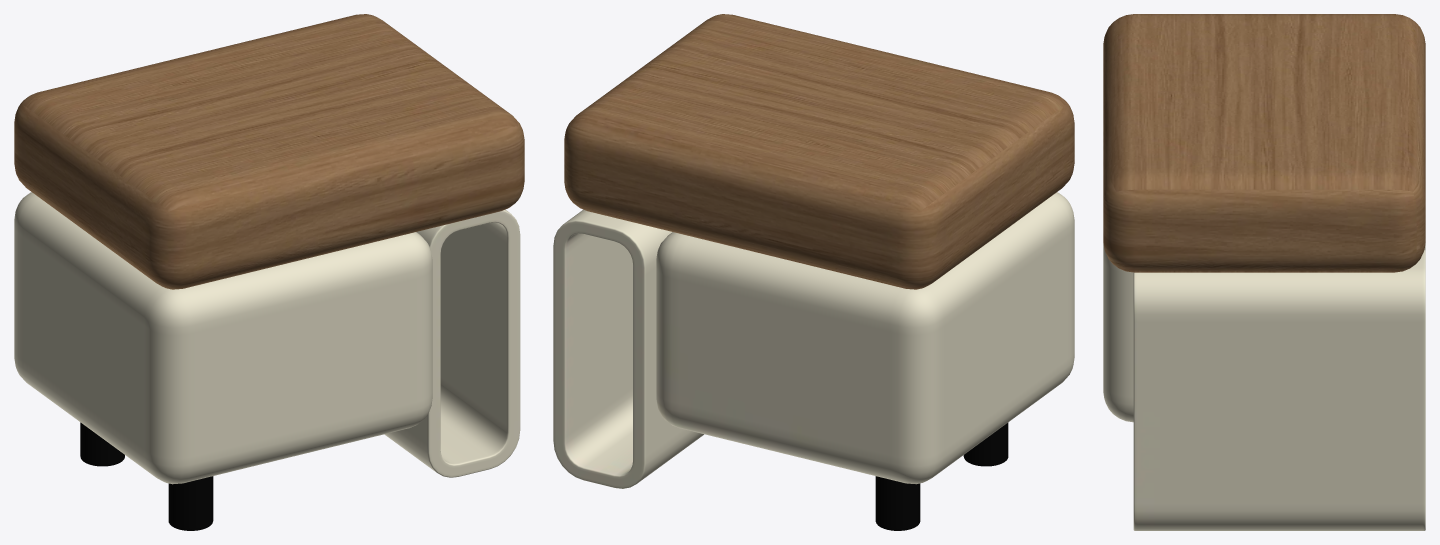
Rendered from nightstandModern.glb.
3 renders of one model, left to right at view 1: azimuth 30°, elevation 25°; view 2: azimuth 150°, elevation 25°; view 3: azimuth 270°, elevation 25°, orthographic.
Parts seen in each view (by area): view 1: Modern Nightstand; view 2: Modern Nightstand; view 3: Modern Nightstand.
Boxes of the visible parts, x1=… form: Modern Nightstand: x1=14, y1=14, x2=524, y2=530; Modern Nightstand: x1=553, y1=14, x2=1074, y2=530; Modern Nightstand: x1=1103, y1=14, x2=1425, y2=530.
Size of the model in its own units: 0.6 by 0.5499 by 0.45.
3 materials, 3 textured.
